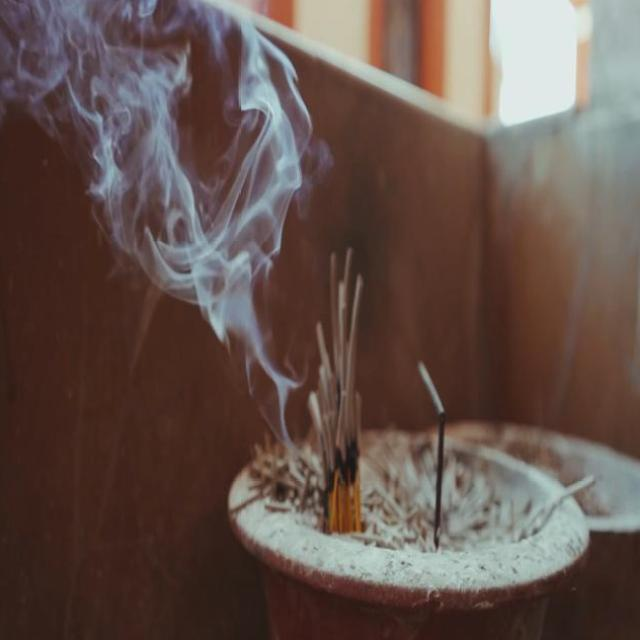fire: (0, 0, 333, 453)
